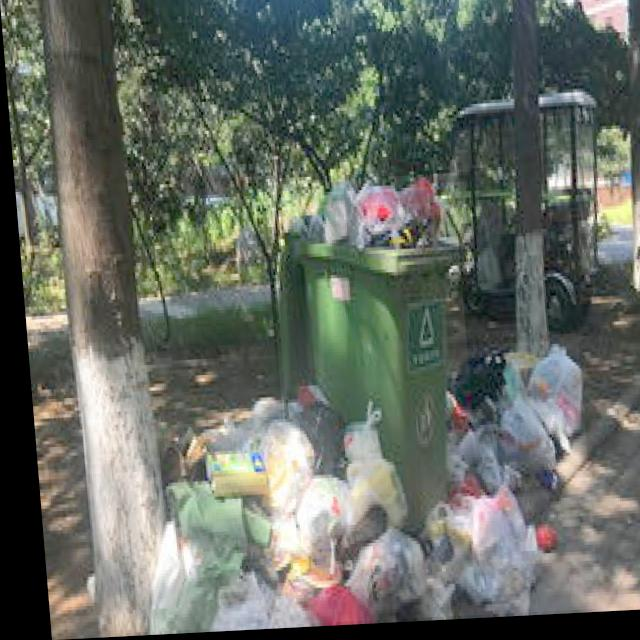garbage: (110, 346, 589, 633)
overflow: (261, 178, 472, 540)
